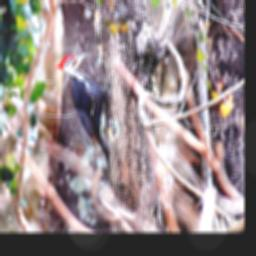Woodpecker: (52, 51, 110, 170)
